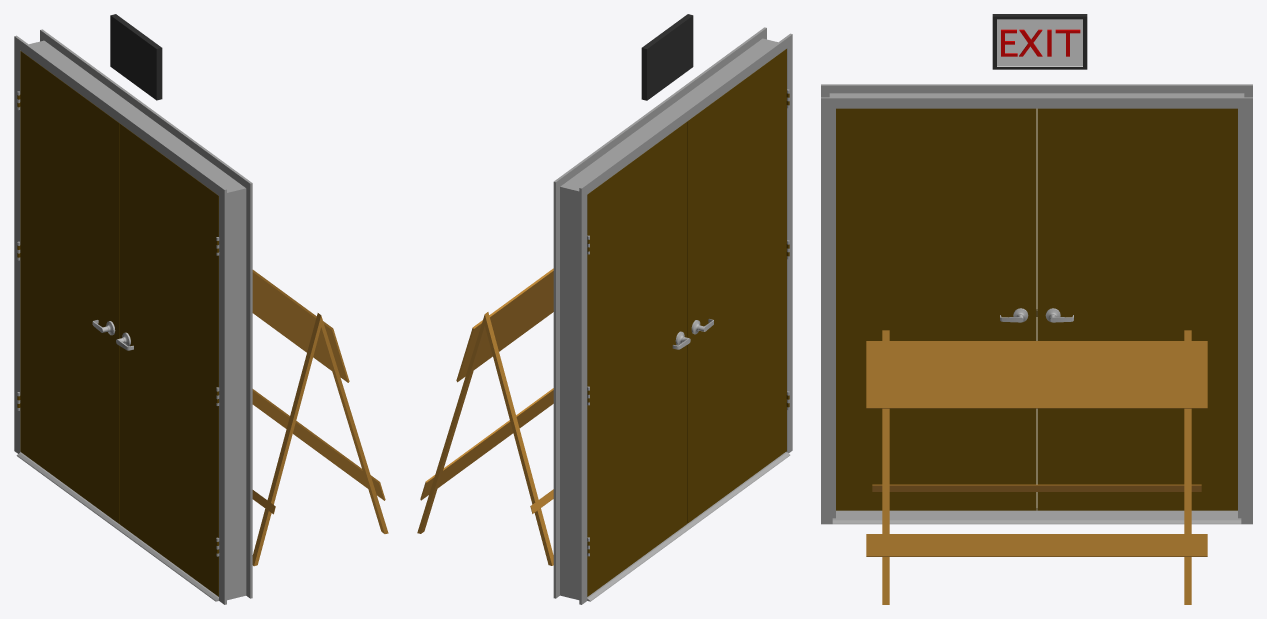
Rendered from exit_door.fbx.
3 views of the same model, side by side, from view 1: azimuth 30°, elevation 25°; view 2: azimuth 150°, elevation 25°; view 3: azimuth 270°, elevation 25° (orthographic). The views are drawn at different scales.
Parts seen in each view (by area): view 1: exit_door, cavalete, exit_sign; view 2: exit_door, cavalete, exit_sign; view 3: exit_door, cavalete, exit_sign.
Boxes of the visible parts, x1=… form: exit_door: x1=14, y1=29, x2=252, y2=604; cavalete: x1=252, y1=270, x2=388, y2=566; exit_sign: x1=110, y1=14, x2=162, y2=100; exit_door: x1=553, y1=27, x2=792, y2=604; cavalete: x1=417, y1=268, x2=553, y2=565; exit_sign: x1=641, y1=14, x2=693, y2=100; exit_door: x1=821, y1=84, x2=1252, y2=524; cavalete: x1=866, y1=330, x2=1207, y2=604; exit_sign: x1=992, y1=14, x2=1087, y2=69.
Size of the model in its own units: 8.01 by 18.43 by 14.3.
